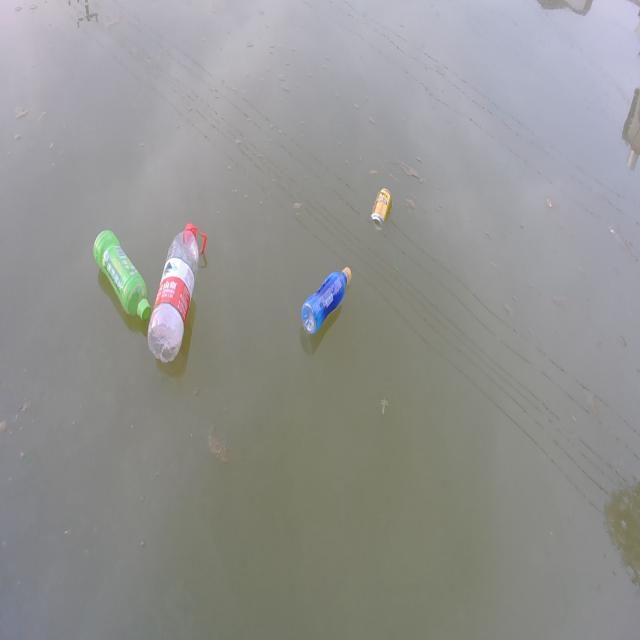Bottle: (149, 210, 209, 362), (91, 224, 151, 320), (298, 262, 358, 335)
Can: (370, 182, 394, 232)
